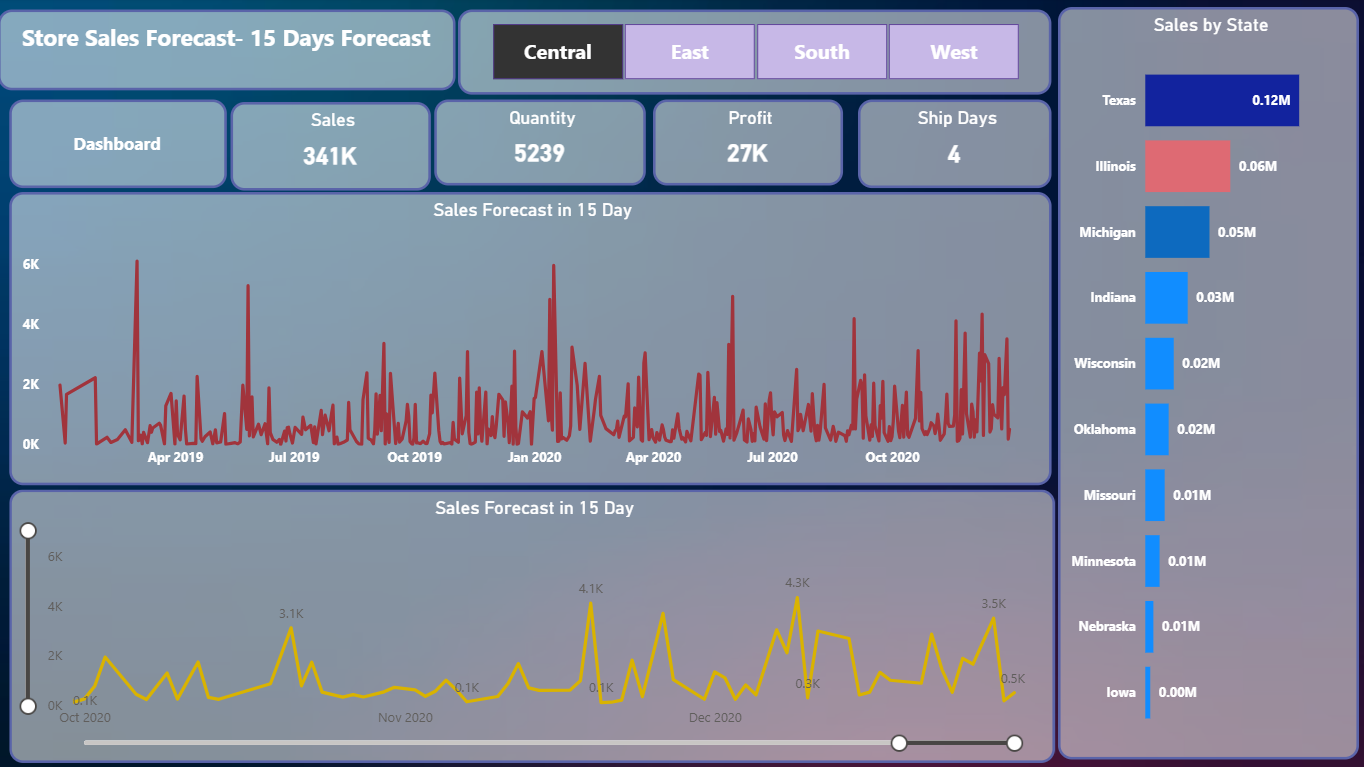

The page's visual inventory and layout, read from the dashboard file:
{"tool":"powerbi","page":{"name":"Forecast","canvas":[1280,720],"ordinal":1},"visuals":[{"type":"lineChart","title":"Sales Forecast in 15 Day","fields":{"Y":["Sum(Super Sales Data.Sales)"],"Category":["Super Sales Data.Order Date"]},"box":[14.8,181.8,969.3,272.7],"z":0},{"type":"lineChart","title":"Sales Forecast in 15 Day","fields":{"Y":["Sum(Super Sales Data.Sales)"],"Category":["Super Sales Data.Order Date"]},"box":[14.8,458,972.7,254.5],"z":1000},{"type":"card","title":"Sales","fields":{"Values":["Sum(Sheet1.Sales)"]},"box":[220.9,97.7,186,82.6],"z":2000},{"type":"card","title":"Quantity","fields":{"Values":["Sum(Sheet1.Quantity)"]},"box":[410.5,95.3,196.5,80.2],"z":3000},{"type":"card","title":"Profit","fields":{"Values":["Sum(Sheet1.Profit)"]},"box":[614,95.3,176.7,80.2],"z":4000},{"type":"card","title":"Ship Days","fields":{"Values":["Avg(Super Sales Data.AvgDelivery)"]},"box":[804.7,95.3,180.2,82.6],"z":5000},{"type":"pageNavigator","box":[15.1,95.3,202.3,82.6],"z":6000},{"type":"textbox","box":[4.7,11.6,425.6,75.6],"z":7000},{"type":"slicer","fields":{"Values":["Sheet1.Region"]},"box":[432.6,11.6,552.3,79.1],"z":8000},{"type":"barChart","title":"Sales by State","fields":{"Y":["Sum(Super Sales Data.Sales)"],"Category":["Super Sales Data.State"]},"box":[990.7,9.3,280.2,700],"z":9000}]}

Visuals, with their boxes in screenshot pixels (x1, y1, x2, y2), scaled from the page's 1280x720 canvas onto the 1364x767 screenshot:
"Sales Forecast in 15 Day" lineChart: 16, 194, 1049, 484
"Sales Forecast in 15 Day" lineChart: 16, 488, 1052, 759
"Sales" card: 235, 104, 434, 192
"Quantity" card: 437, 102, 647, 187
"Profit" card: 654, 102, 843, 187
"Ship Days" card: 858, 102, 1050, 190
pageNavigator: 16, 102, 232, 190
textbox: 5, 12, 459, 93
slicer - Sheet1.Region: 461, 12, 1050, 97
"Sales by State" barChart: 1056, 10, 1354, 756
